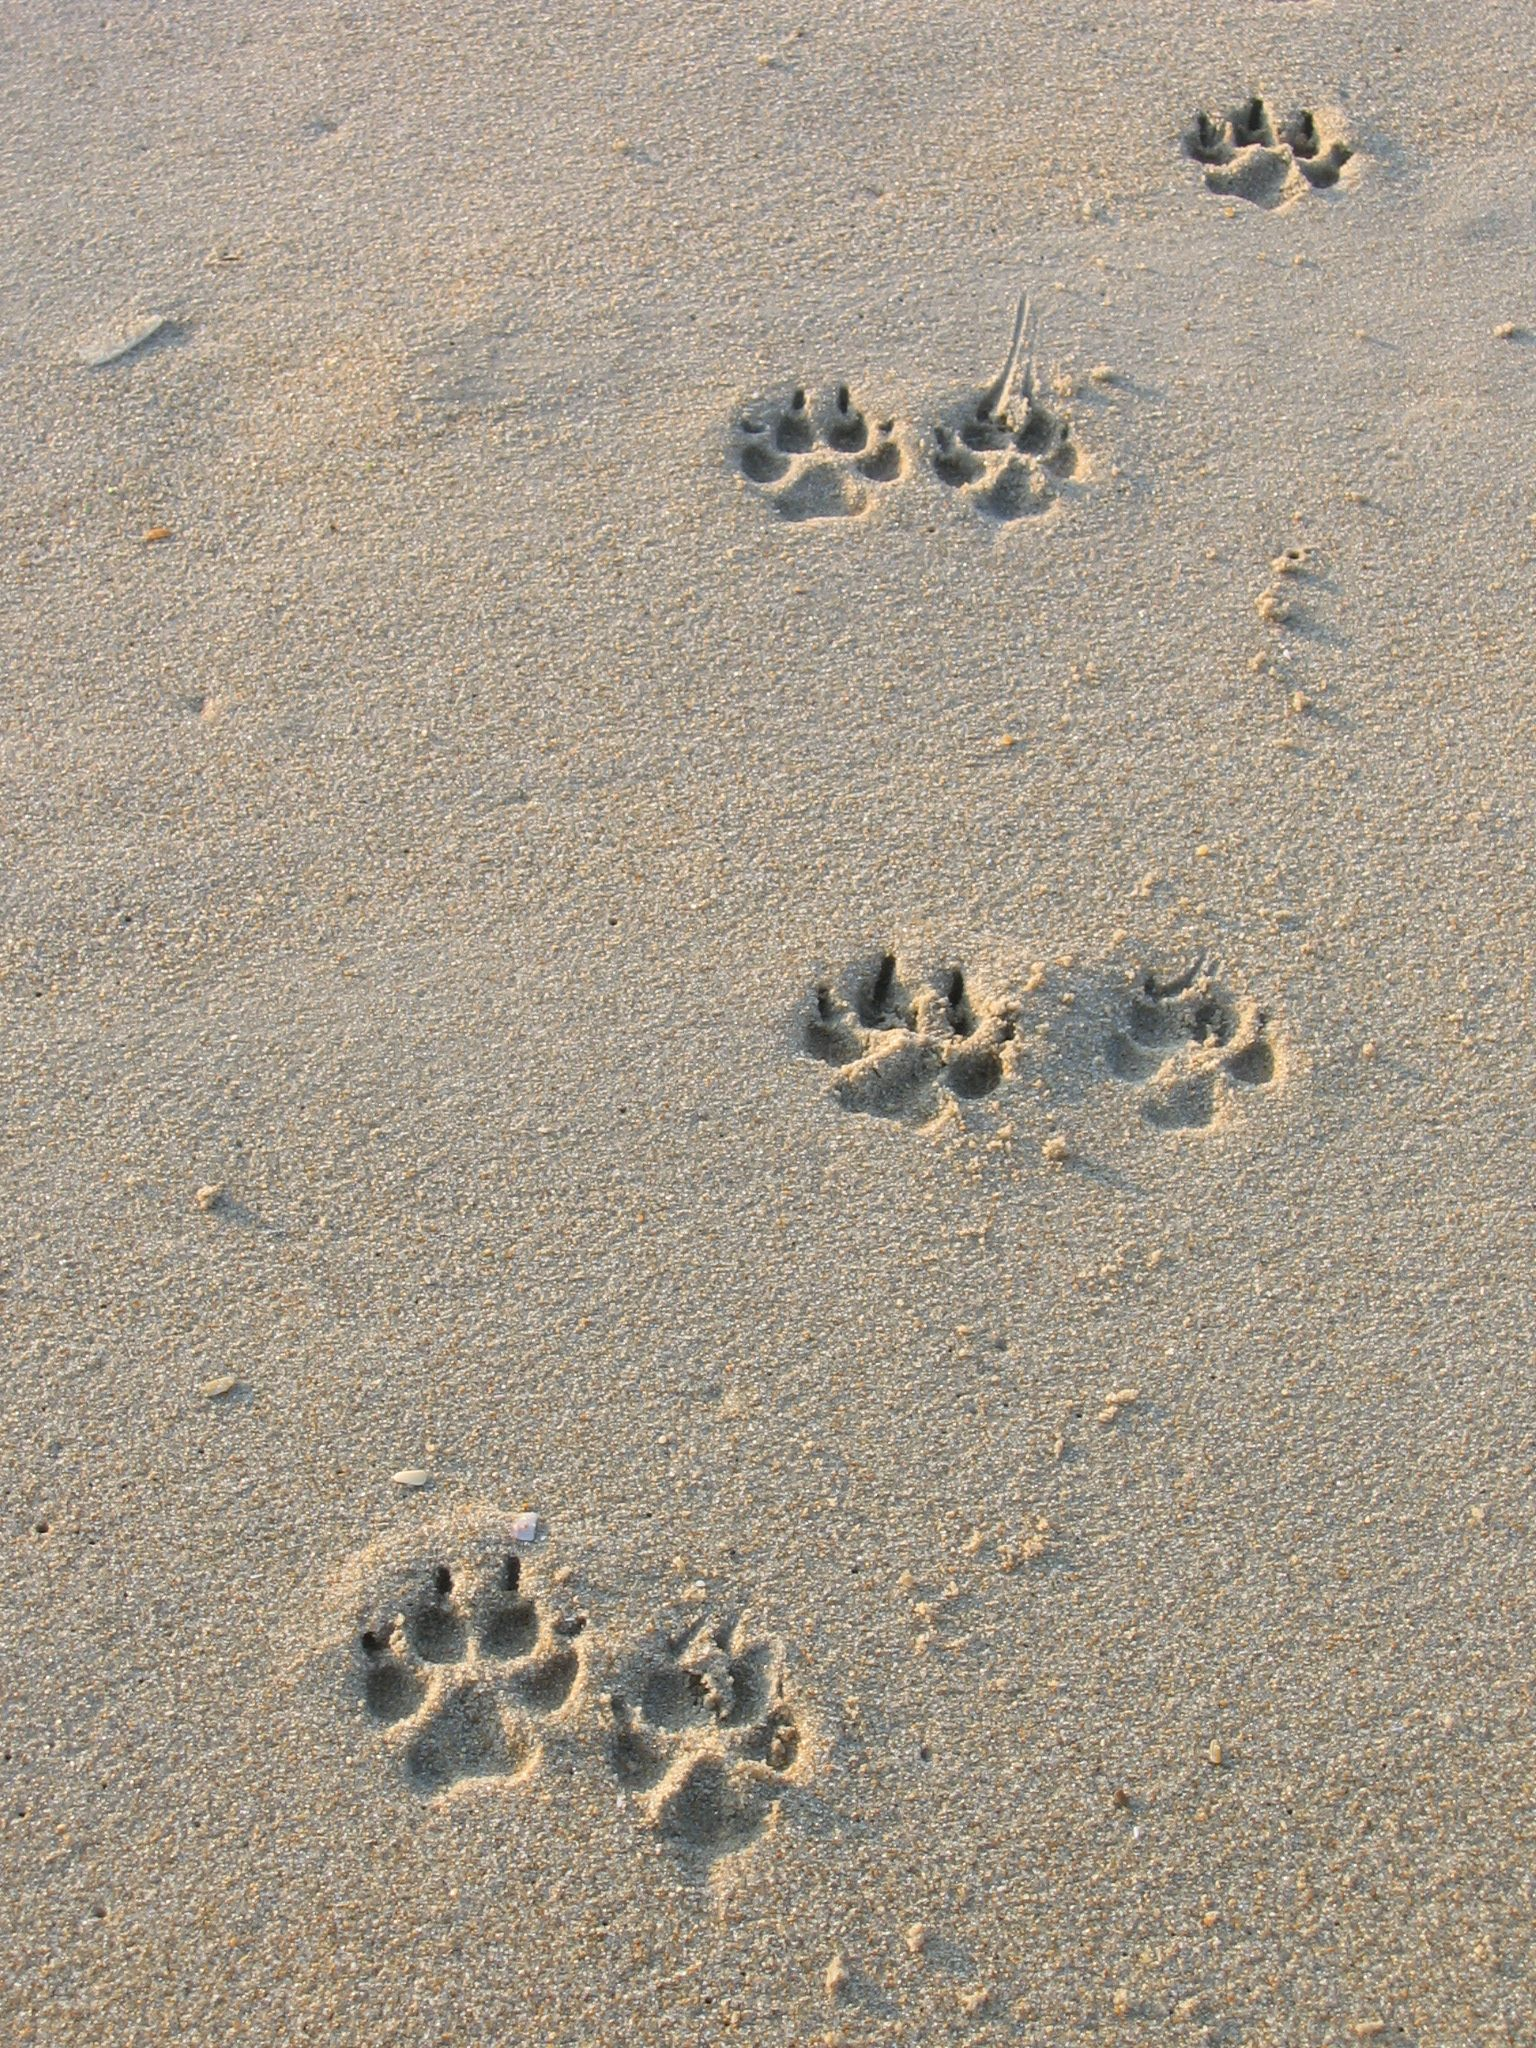chien: (331, 1551, 586, 1788), (599, 1617, 826, 1882), (807, 947, 1021, 1127), (721, 382, 925, 535), (1108, 972, 1275, 1143), (1178, 95, 1367, 218), (921, 390, 1084, 532)
